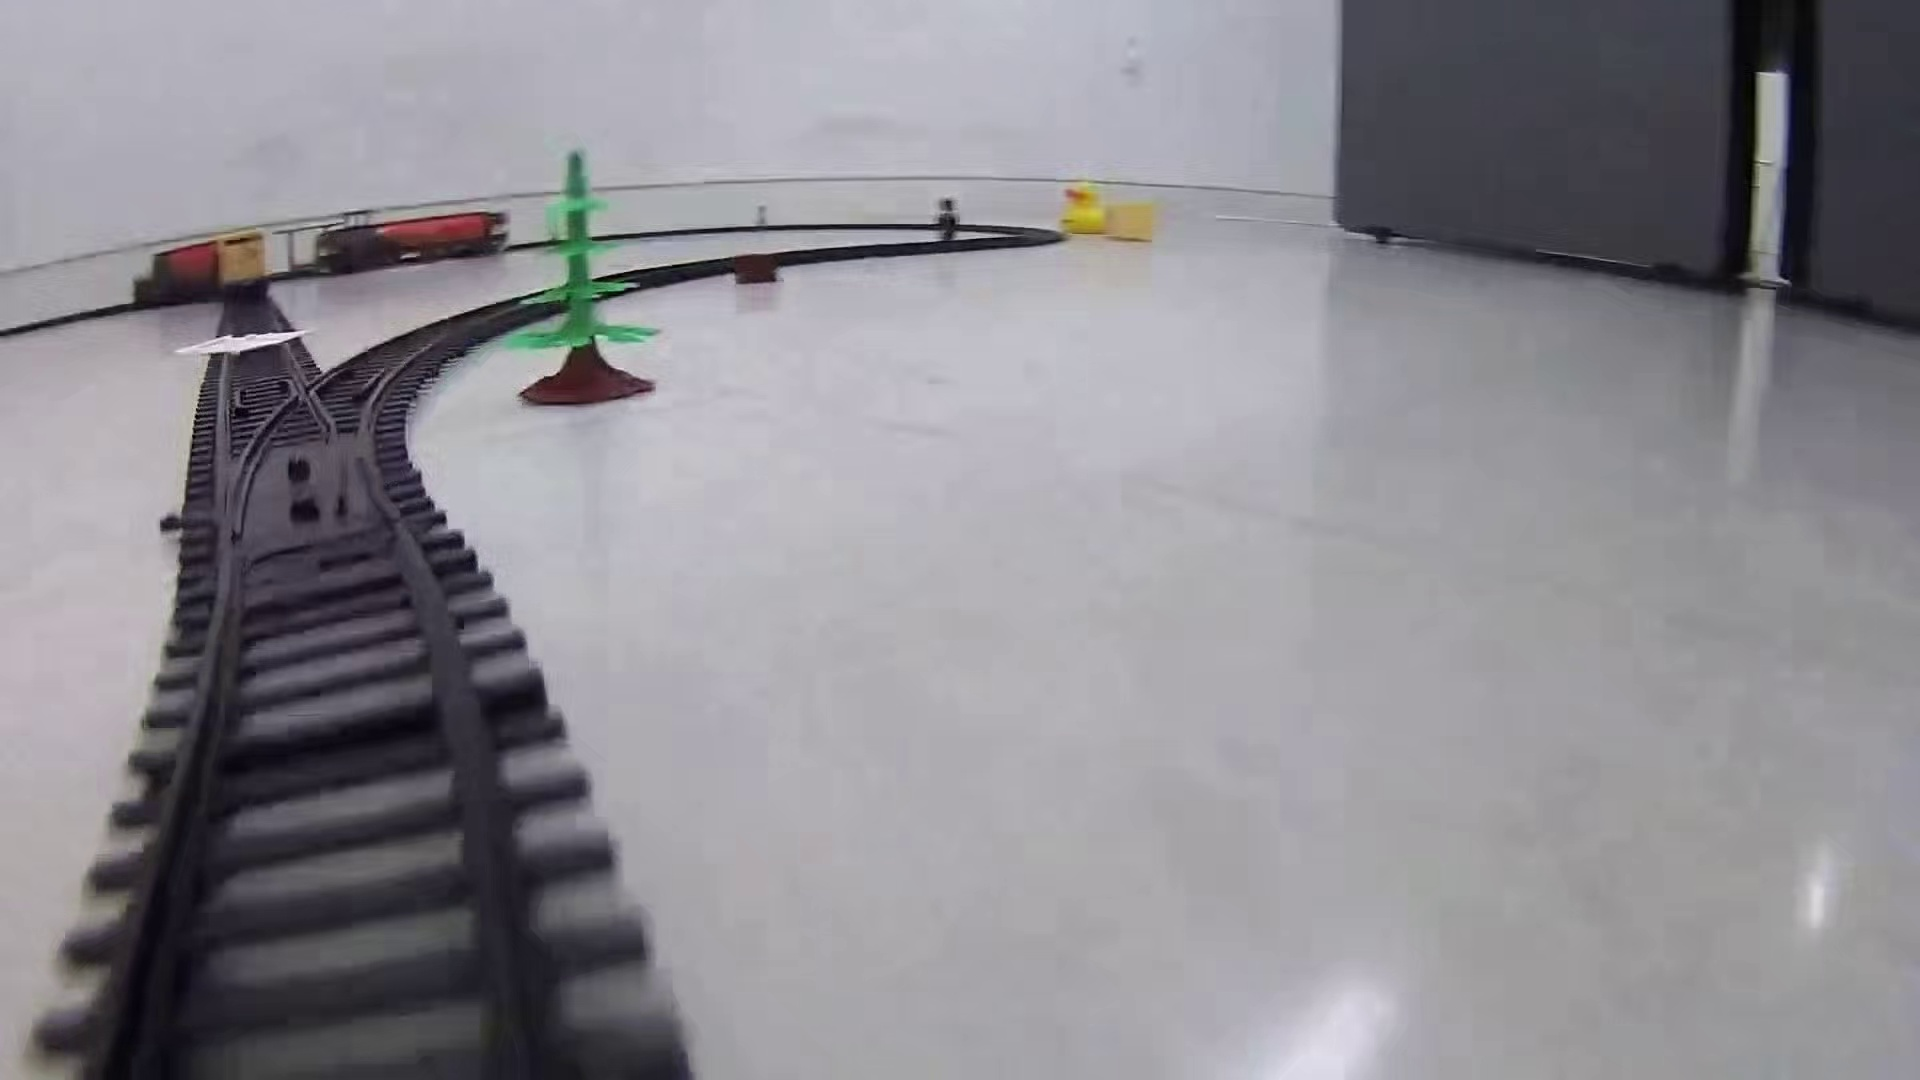box: (730, 249, 783, 288)
people: (931, 194, 962, 255)
tree: (514, 149, 662, 411)
web: (172, 322, 309, 361)
